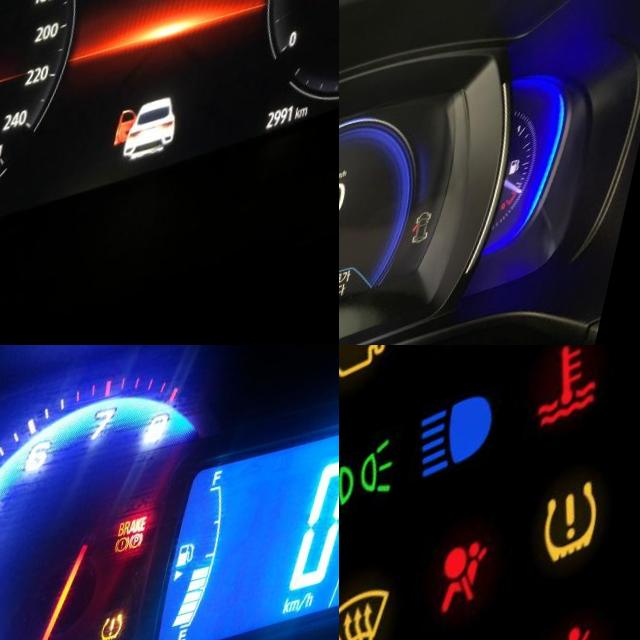Engine cooling system: (528, 350, 620, 456)
SideLamp: (339, 443, 415, 538)
